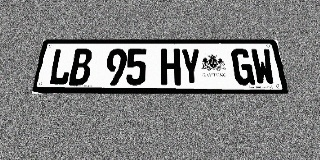5: (126, 49, 147, 85)
9: (105, 49, 127, 85)
B: (68, 49, 93, 85)
G: (231, 49, 255, 85)
H: (161, 49, 181, 85)
L: (47, 49, 73, 85)
W: (250, 49, 276, 85)
Y: (180, 49, 202, 85)
